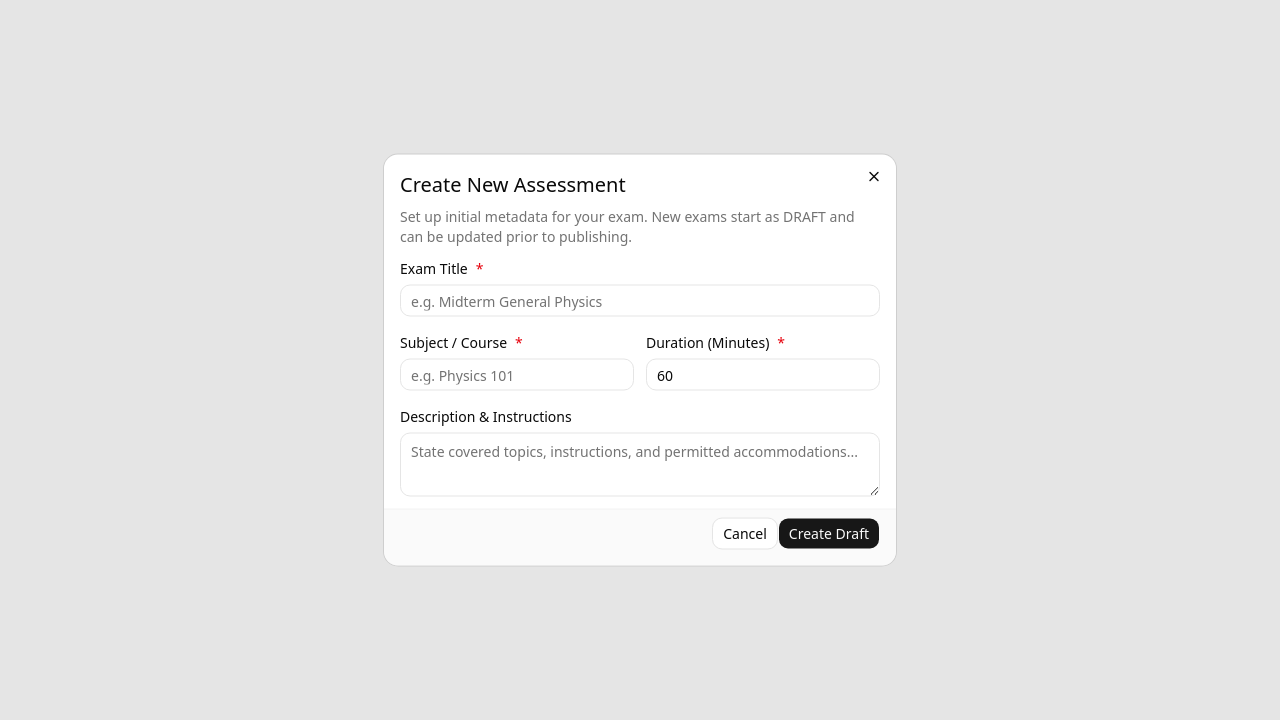
it: Exam Management Dashboard & Lifecycles › CreateExamDialog validation and submission › validates form inputs and prevents submission with invalid fields
What coordinates should you click on to do the following:
click the button "Create Draft"
I would click on:
 (829, 534)
Its box is [778,518,880,550].
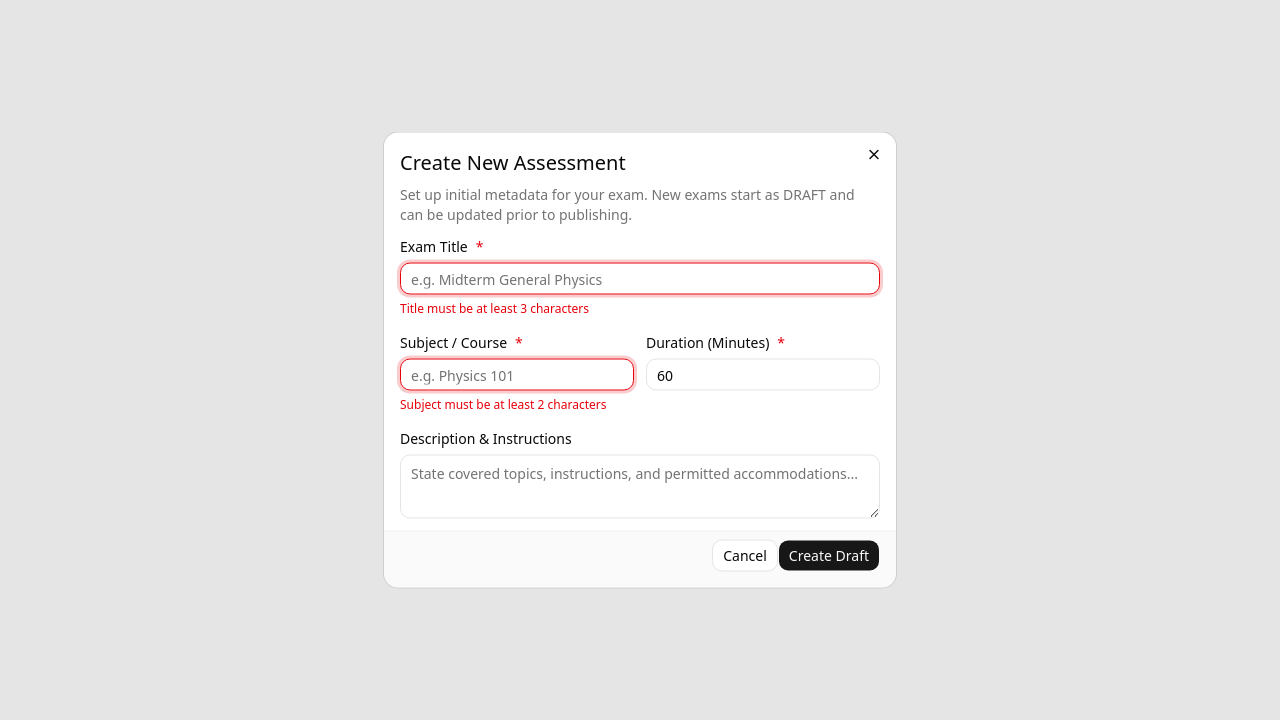
Expected: the text "Title must be at least 3 characters" is shown, [400,300,589,316]
Expected: the text "Subject must be at least 2 characters" is shown, [400,396,634,412]
